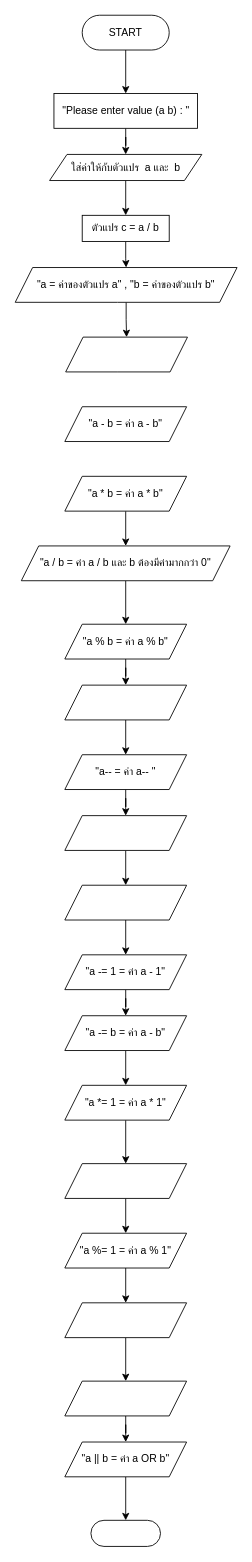
This 252x1562 diagram has some shape labels left out. The shapes that lost their labels are listed below. From the top down, each one's centre as x and y in pixels, then its label:
point 126,354: "a + b = ค่า a + b"
point 125,702: "a++ = ค่า a + 1 "
point 125,832: "a += 1 = ค่า a + 1"
point 125,902: "a += b = ค่า a + b"
point 125,1180: "a *= b = ค่า a * b"
point 125,1320: "a %= b = ค่า a % b"
point 125,1398: "a && b = ค่า a AND b"
point 125,1532: END
